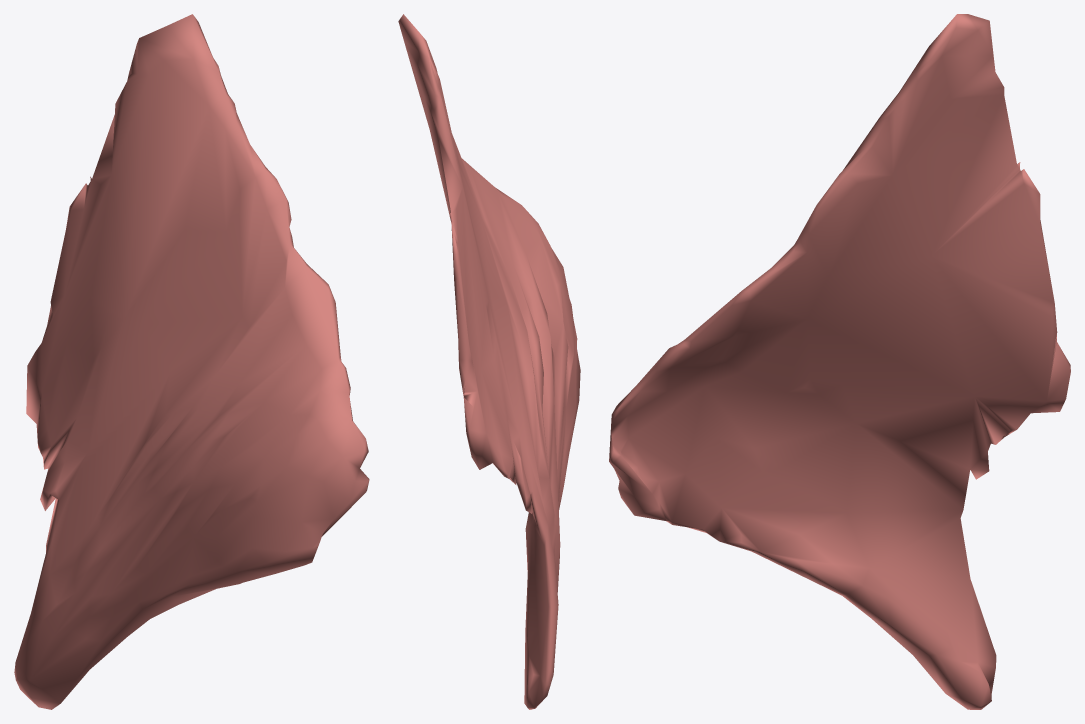
The picture shows the model from 3 angles, left to right: view 1: azimuth 30°, elevation 25°; view 2: azimuth 150°, elevation 25°; view 3: azimuth 270°, elevation 25°; orthographic projection. The views are drawn at different scales.
Parts seen in each view (by area): view 1: ZA_5627d84f5fe5aec3; view 2: ZA_5627d84f5fe5aec3; view 3: ZA_5627d84f5fe5aec3.
Part boxes in pixels (box(x1,y1,x2,y2)): ZA_5627d84f5fe5aec3: box(14, 14, 369, 709); ZA_5627d84f5fe5aec3: box(398, 14, 580, 709); ZA_5627d84f5fe5aec3: box(609, 14, 1070, 709).
Bounding box in the file's own units: 0.0133 × 0.0403 × 0.0218.
